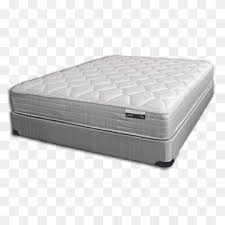bed-matress: (9, 54, 215, 168)
